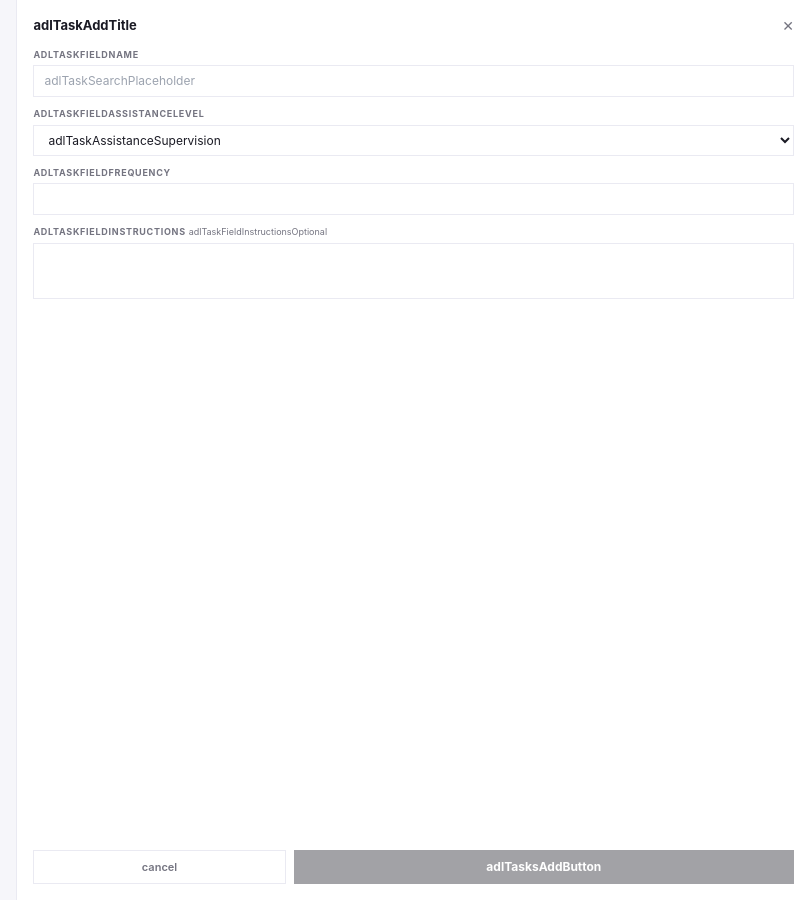
AddTaskPanel › pre-fills assistance level and instructions when a template is selected
In the field with placeholder "adlTaskSearchPlaceholder": (414, 81) [33, 65, 794, 97], type "bath"
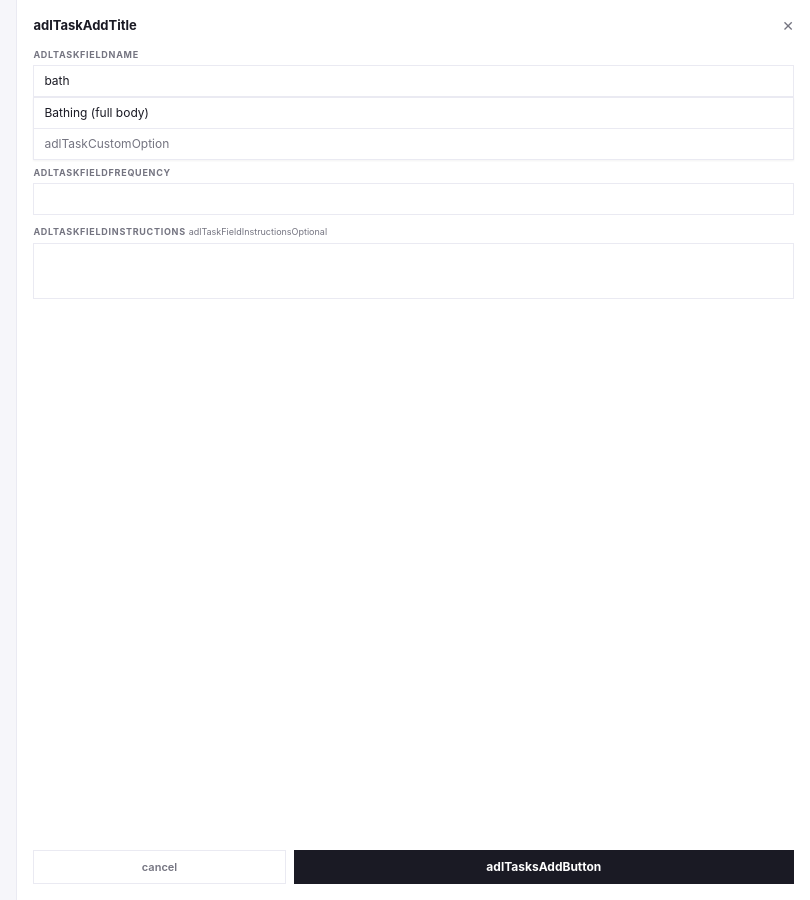
Click the button "Bathing (full body)": (97, 112) [34, 98, 793, 128]
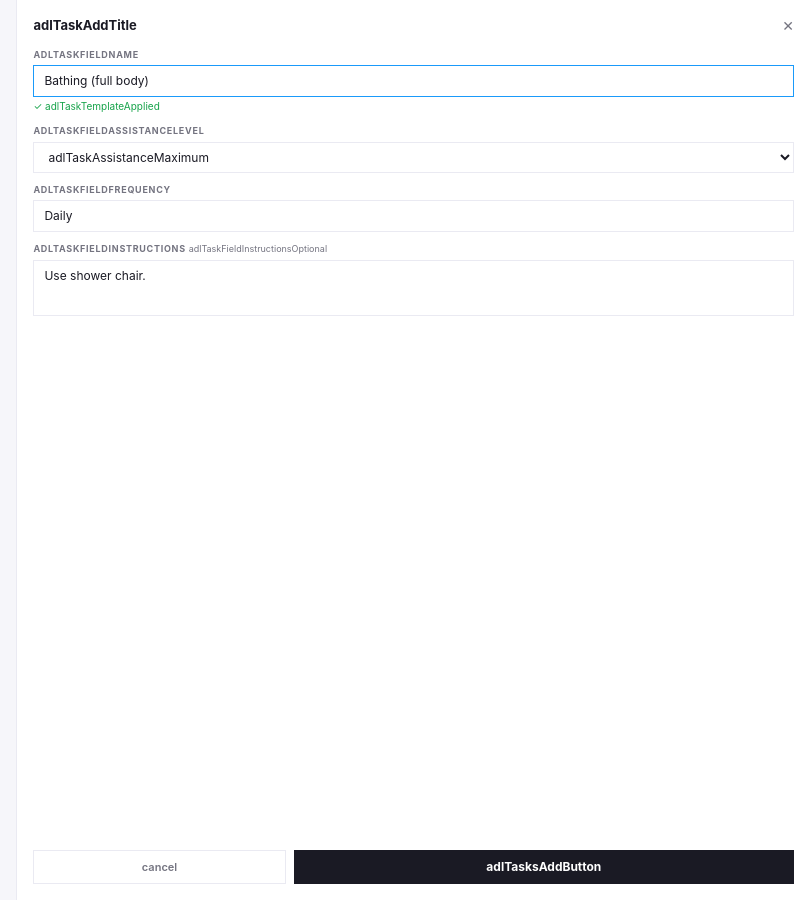
Now the text "✓ adlTaskTemplateApplied" is shown, box [33, 100, 160, 112]
Now the field showing "Daily" below "adlTaskFieldFrequency" is shown, box [33, 200, 794, 232]
Now the text box showing "Use shower chair." is shown, box [33, 260, 794, 316]
